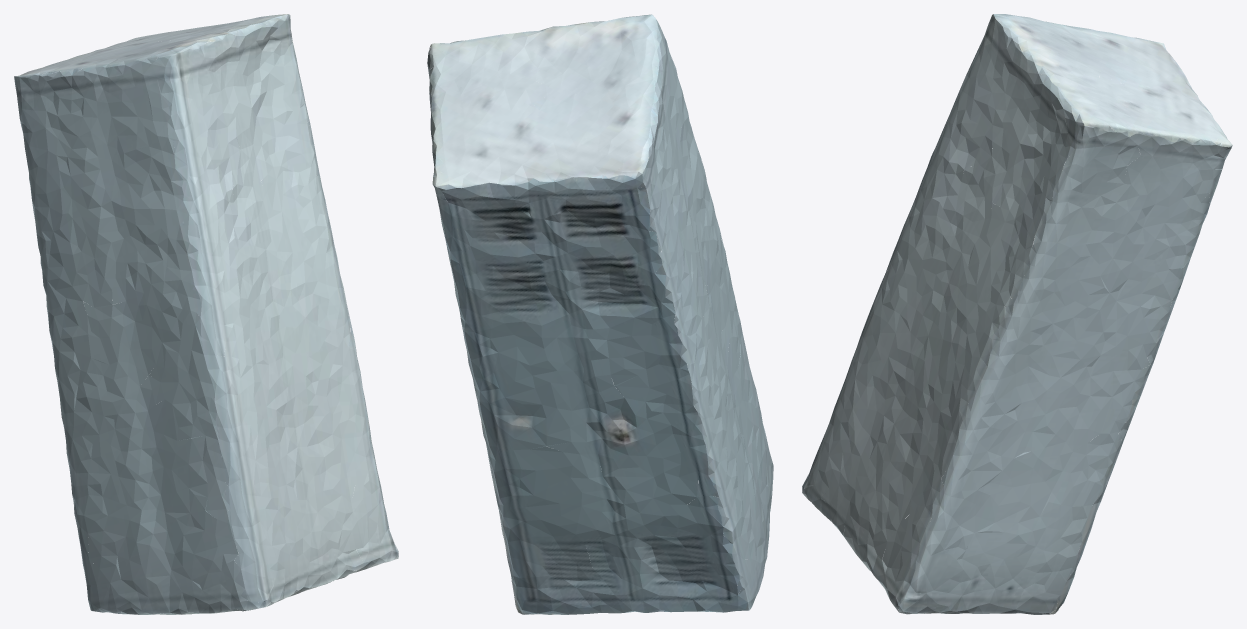
File: locker.glb
3 renders of one model, left to right at view 1: azimuth 30°, elevation 25°; view 2: azimuth 150°, elevation 25°; view 3: azimuth 270°, elevation 25°, orthographic. The views are drawn at different scales.
Visible parts, largest first — view 1: world; view 2: world; view 3: world.
Boxes of the visible parts, <box> form: world: <box>14,14,398,614</box>; world: <box>427,14,773,614</box>; world: <box>802,14,1232,614</box>.
Size of the model in its own units: 0.4877 by 0.9729 by 0.6844.
Materials: 1 (1 with a texture image).
